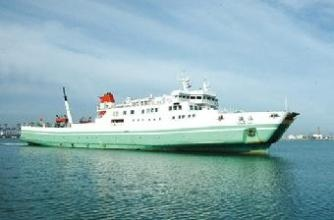otherboat: (18, 72, 301, 154)
